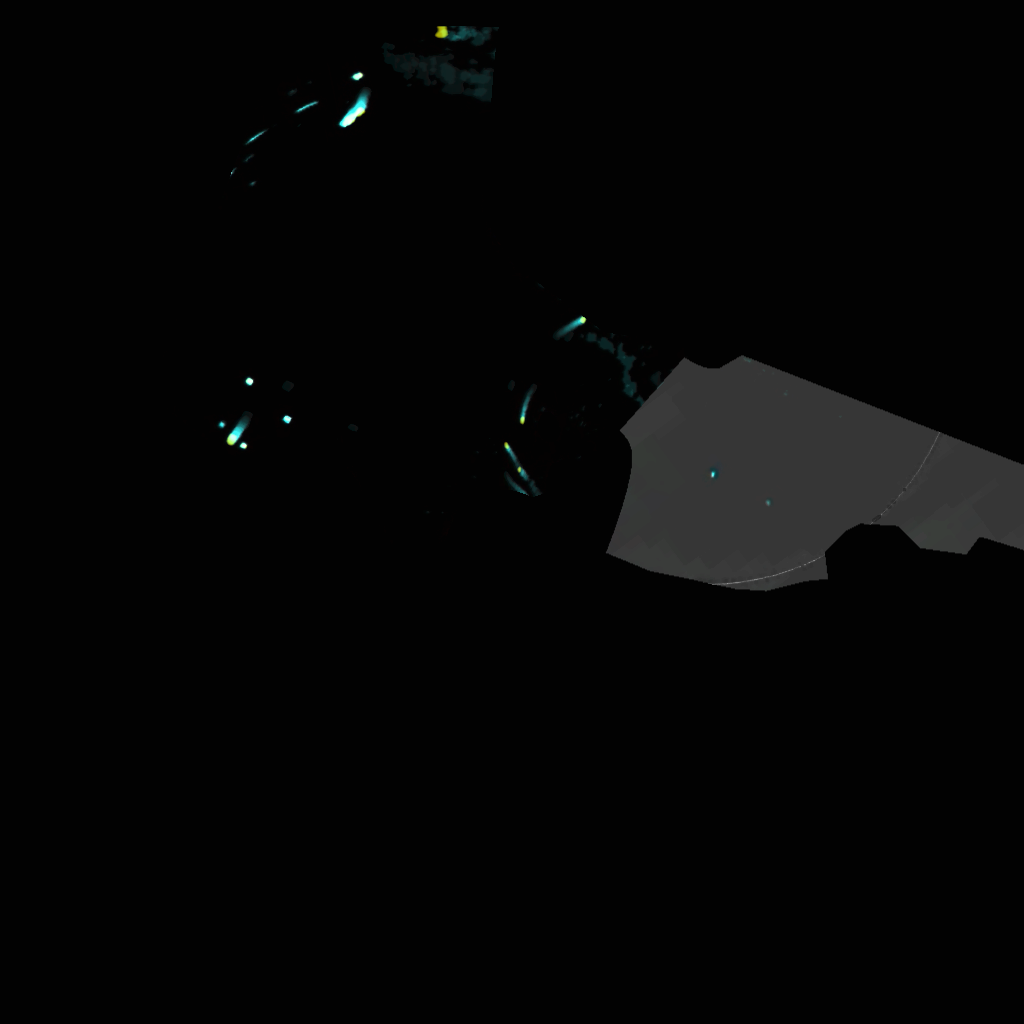B: (517, 395, 533, 425), (228, 422, 247, 445), (564, 314, 586, 333), (342, 109, 356, 128), (356, 98, 369, 117), (517, 464, 531, 481), (503, 442, 514, 458)
